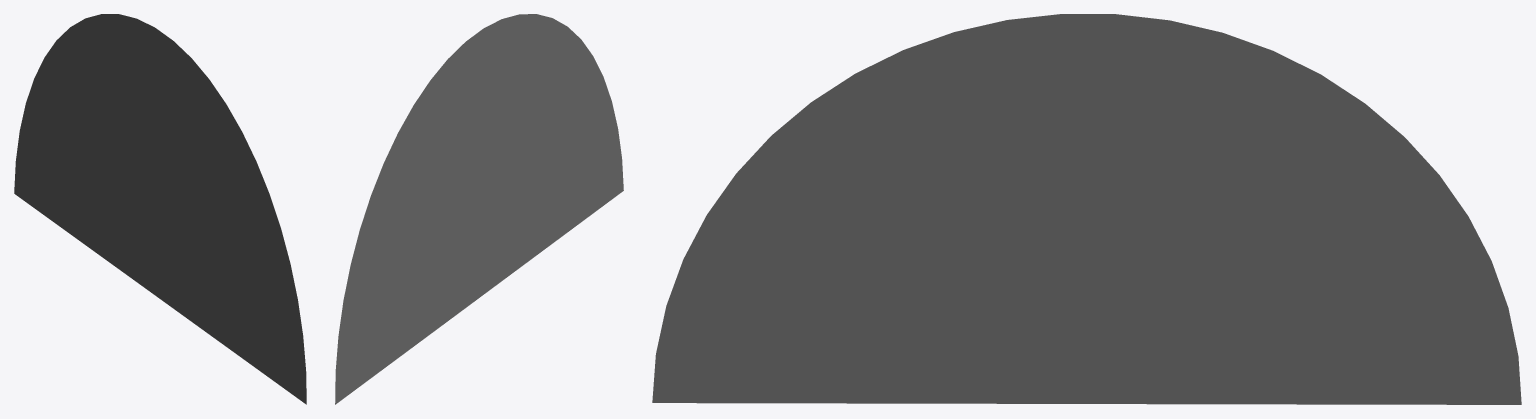
The model's file is techoCerradoPared.glb.
The picture shows the model from 3 angles, left to right: view 1: azimuth 30°, elevation 25°; view 2: azimuth 150°, elevation 25°; view 3: azimuth 270°, elevation 25°; orthographic projection. The views are drawn at different scales.
Parts seen in each view (by area): view 1: Circle.001; view 2: Circle.001; view 3: Circle.001.
Part boxes in pixels (bbox=[...]): Circle.001: bbox=[14, 14, 306, 404]; Circle.001: bbox=[335, 14, 623, 404]; Circle.001: bbox=[652, 14, 1521, 404].
Bounding box in the file's own units: 0.1176 × 6.01 × 12.
Materials: 1 (1 with a texture image).
